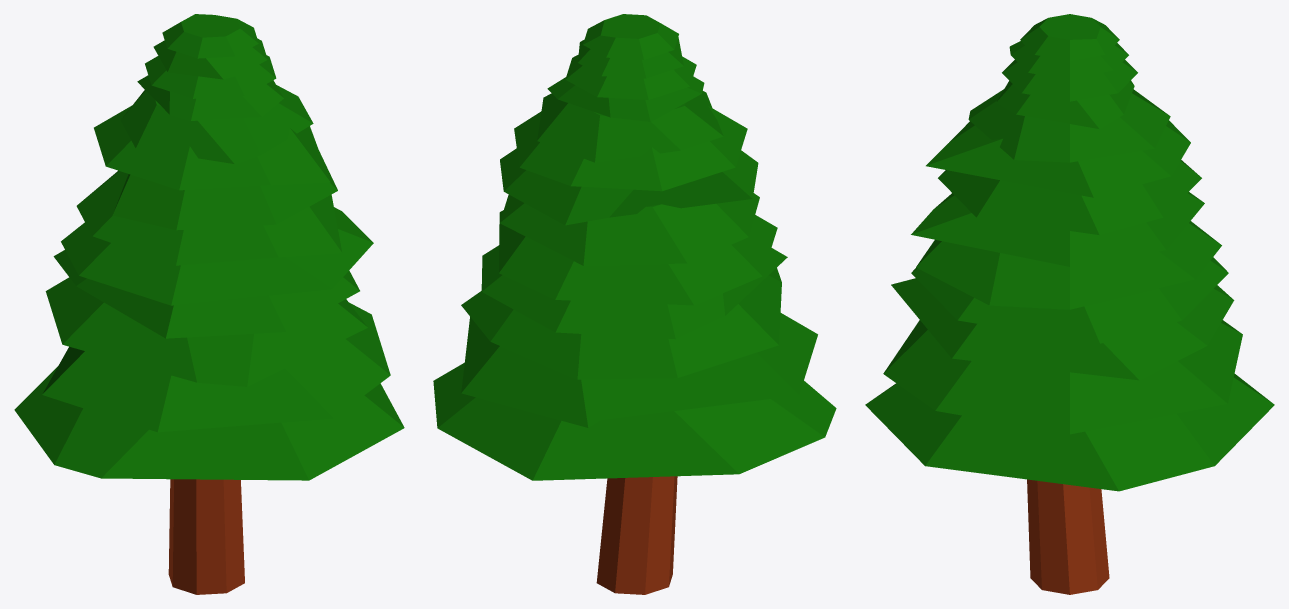
Rendered from TestTree02.fbx.
3 renders of one model, left to right at view 1: azimuth 30°, elevation 25°; view 2: azimuth 150°, elevation 25°; view 3: azimuth 270°, elevation 25°, orthographic.
Visible parts, largest first — view 1: Circle.001; view 2: Circle.001; view 3: Circle.001.
Part boxes in pixels (<box>): Circle.001: <box>14,14,404,594</box>; Circle.001: <box>433,14,836,594</box>; Circle.001: <box>865,14,1274,594</box>.
Size of the model in its own units: 1161 by 1757 by 1180.
